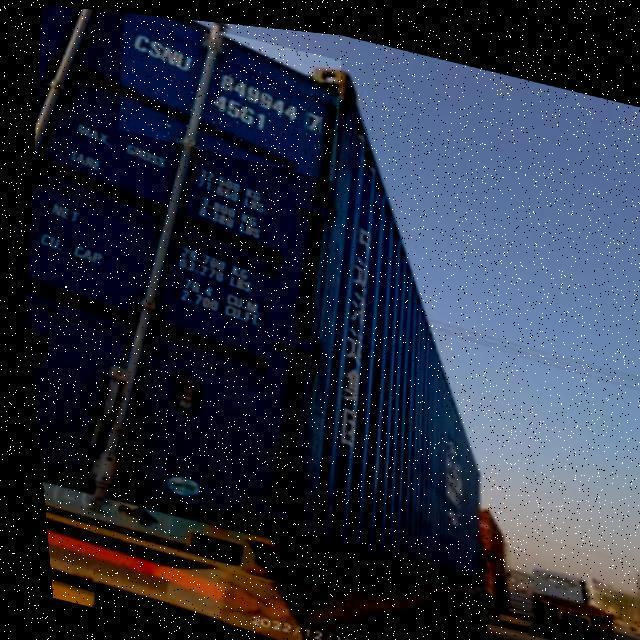container_number_h: (108, 9, 349, 176)
